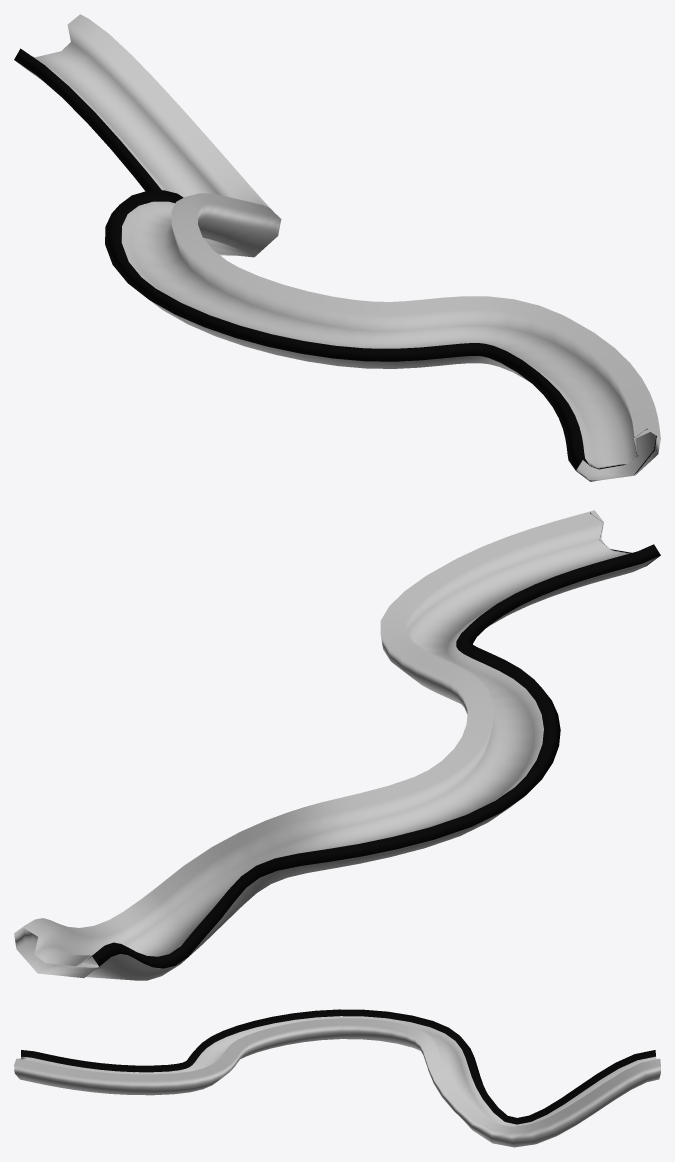
The model's file is osef.FBX.
The picture shows the model from 3 angles, top to bottom: view 1: azimuth 30°, elevation 25°; view 2: azimuth 150°, elevation 25°; view 3: azimuth 270°, elevation 25°; orthographic projection. The views are drawn at different scales.
Parts seen in each view (by area): view 1: GameObject; view 2: GameObject; view 3: GameObject.
Part boxes in pixels (x1=…): GameObject: x1=14, y1=14, x2=660, y2=481; GameObject: x1=14, y1=510, x2=660, y2=980; GameObject: x1=14, y1=1009, x2=660, y2=1147.
Size of the model in its own units: 3216 by 1550 by 11294.
